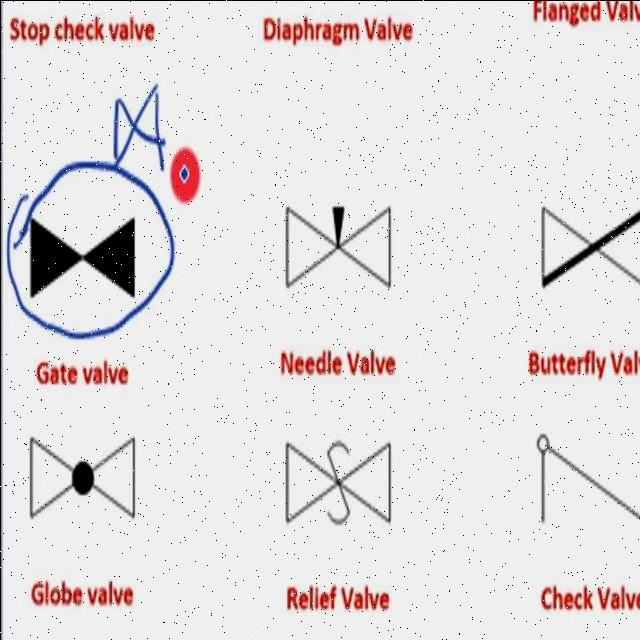Closed Gate Valve: (24, 210, 138, 298)
Needle Valve: (265, 180, 404, 296), (19, 424, 140, 536)
